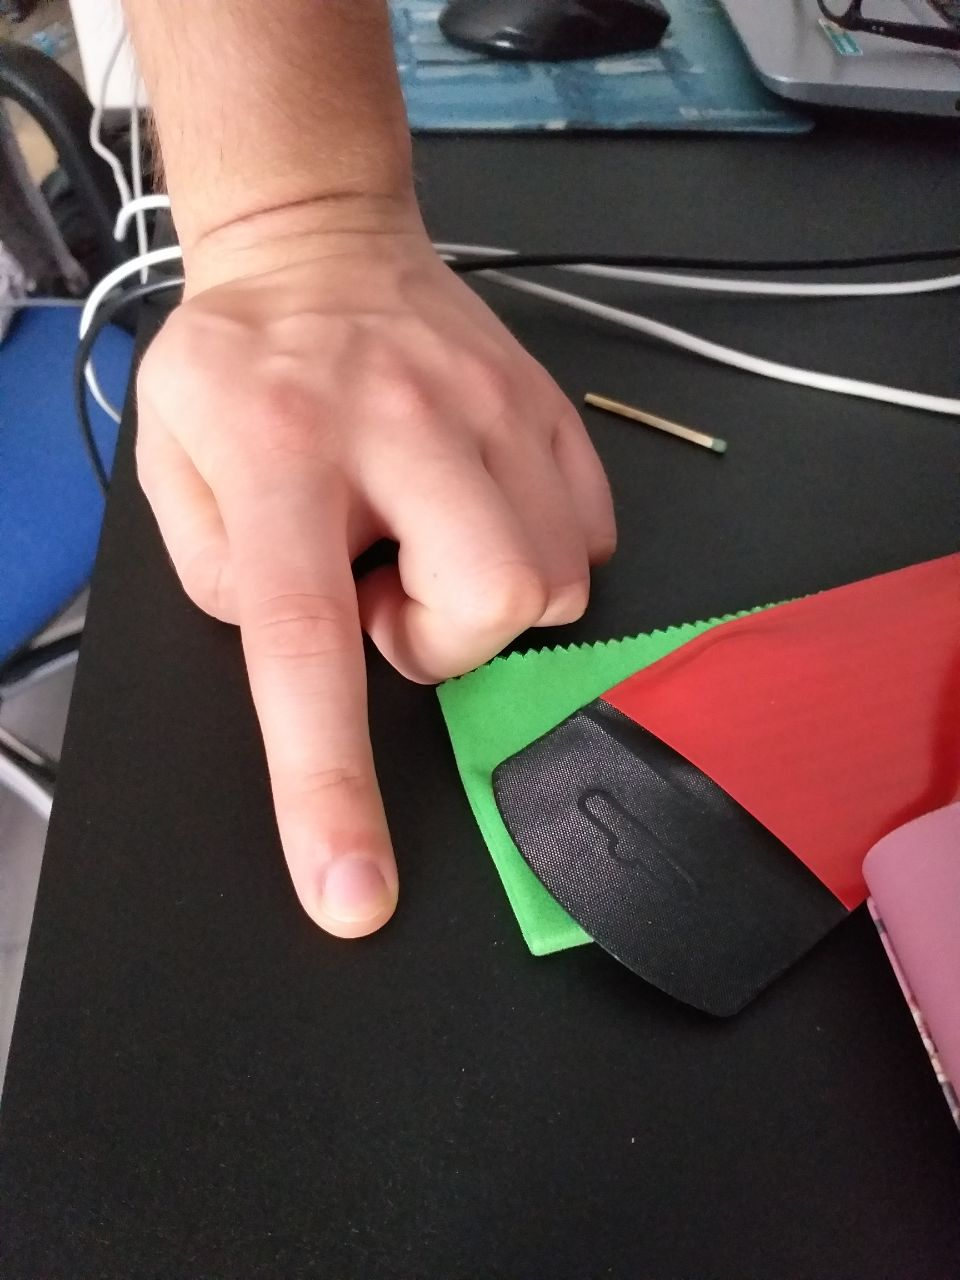finger: (281, 839, 400, 935)
